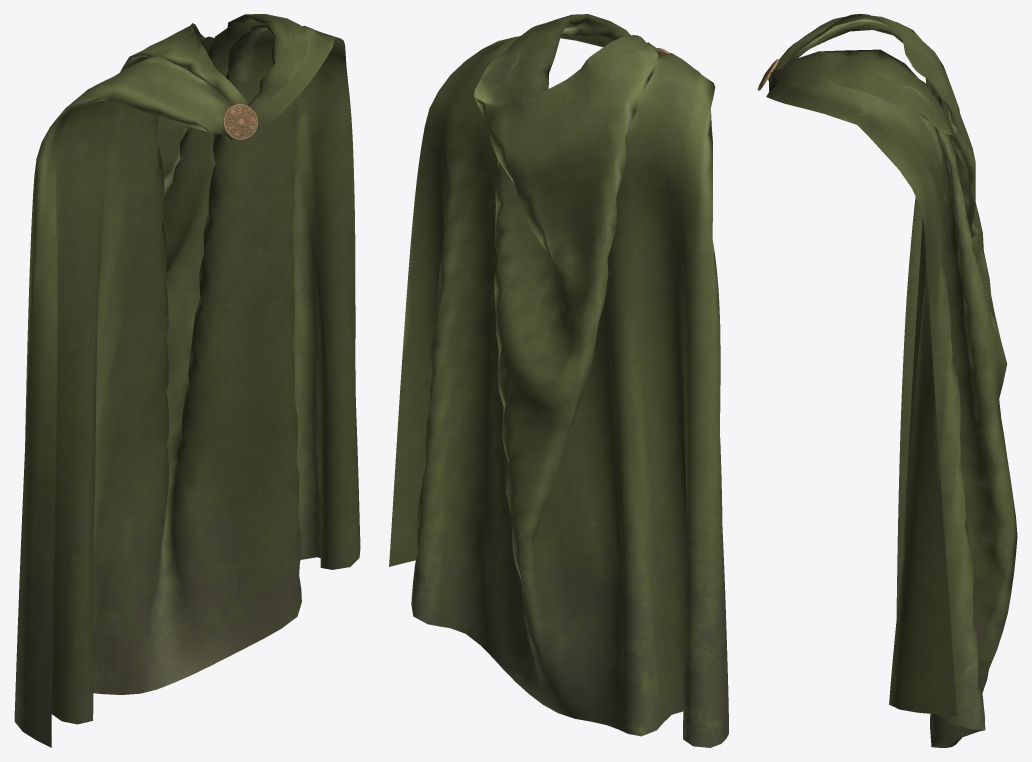
Rendered from cts_rohan_cape3.fbx.
3 renders of one model, left to right at view 1: azimuth 30°, elevation 25°; view 2: azimuth 150°, elevation 25°; view 3: azimuth 270°, elevation 25°, orthographic. The views are drawn at different scales.
Visible parts, largest first — view 1: cts_rohan_cape3; view 2: cts_rohan_cape3; view 3: cts_rohan_cape3.
Boxes of the visible parts, bbox=[...] form: cts_rohan_cape3: bbox=[14, 14, 360, 747]; cts_rohan_cape3: bbox=[389, 14, 728, 747]; cts_rohan_cape3: bbox=[757, 14, 1017, 747].
Bounding box in the file's own units: 0.6866 × 0.4385 × 1.34.
